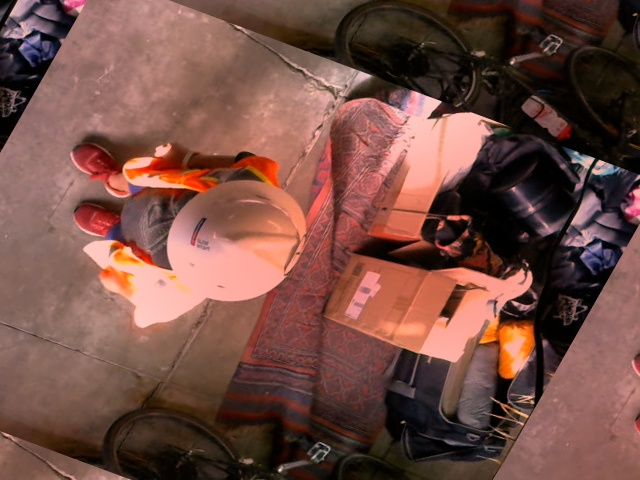one: (281, 232, 311, 275)
